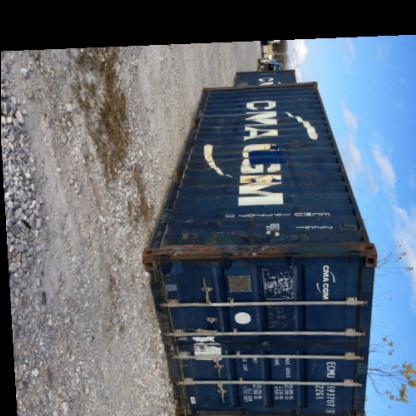Damage: (161, 220, 294, 266), (281, 134, 309, 196), (190, 141, 219, 183), (264, 272, 298, 302), (264, 305, 294, 332), (230, 101, 250, 139), (244, 173, 262, 184)
